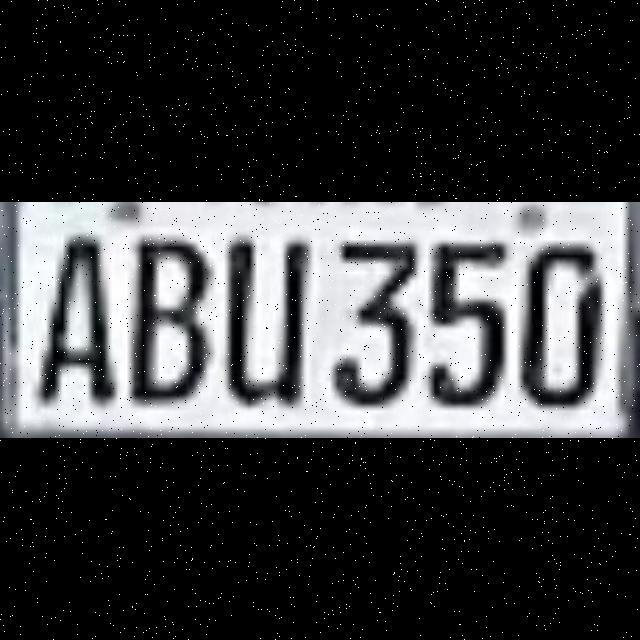0: (514, 226, 612, 422)
3: (322, 226, 418, 422)
5: (418, 226, 516, 422)
A: (31, 226, 128, 422)
B: (128, 226, 225, 422)
U: (225, 226, 322, 422)
